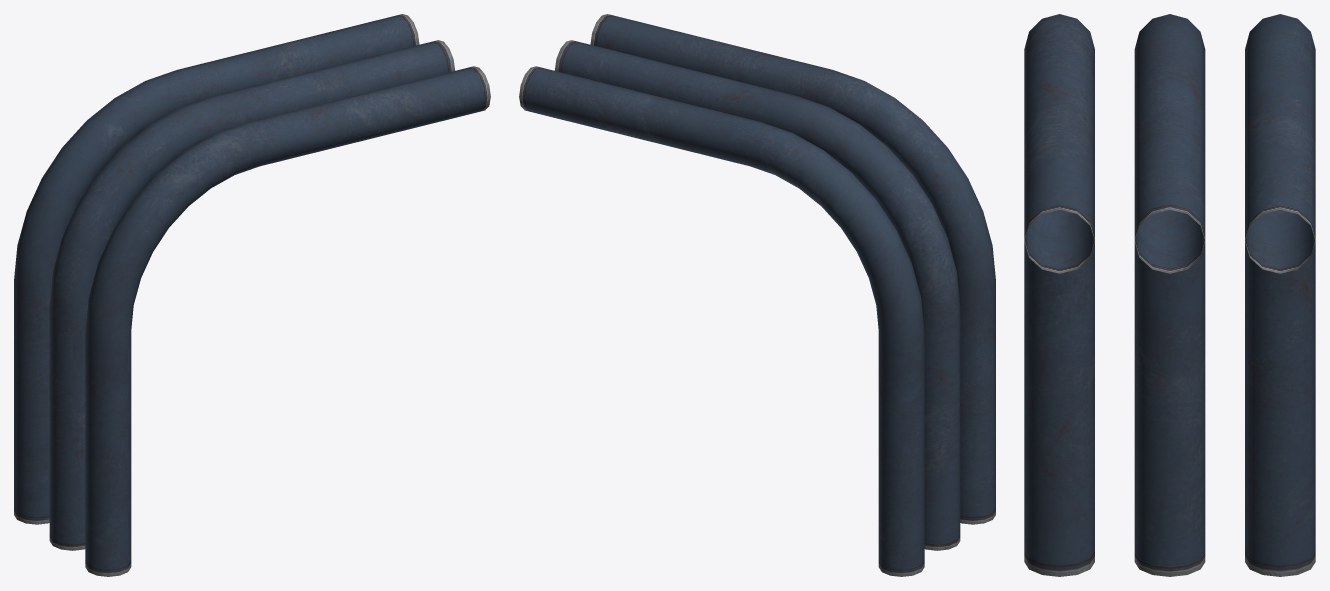
The model's file is Pipe3_Courner4_L0.fbx.
3 renders of one model, left to right at view 1: azimuth 30°, elevation 25°; view 2: azimuth 150°, elevation 25°; view 3: azimuth 270°, elevation 25°, orthographic. The views are drawn at different scales.
Parts seen in each view (by area): view 1: PIpe3_Courner4_L0; view 2: PIpe3_Courner4_L0; view 3: PIpe3_Courner4_L0.
Part boxes in pixels (<box>): PIpe3_Courner4_L0: <box>14,14,490,576</box>; PIpe3_Courner4_L0: <box>519,14,995,576</box>; PIpe3_Courner4_L0: <box>1024,14,1315,576</box>.
Size of the model in its own units: 105 by 105 by 43.99.
